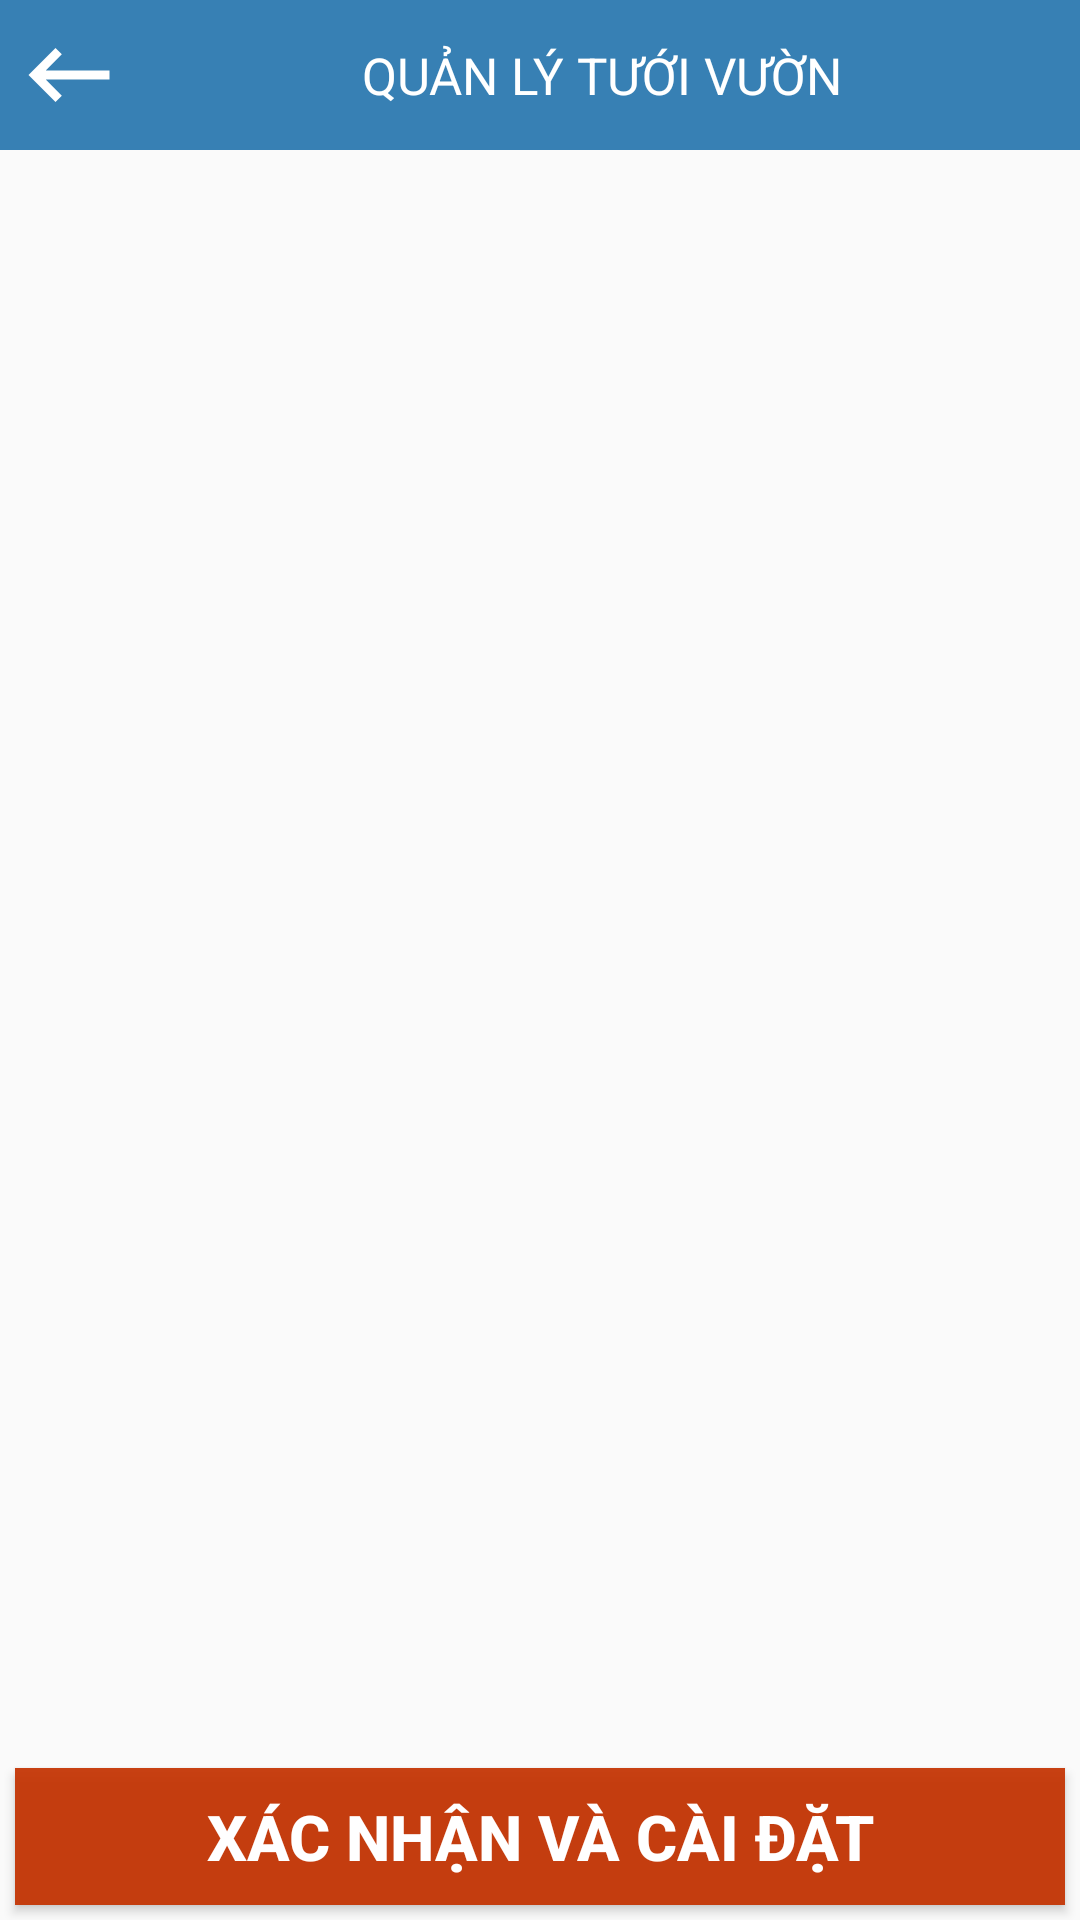

Icons on this 1080px x 1920px Android screen, each with its box as (x1, y1, x2, y2):
keyboard backspace: (29, 48, 110, 102)
